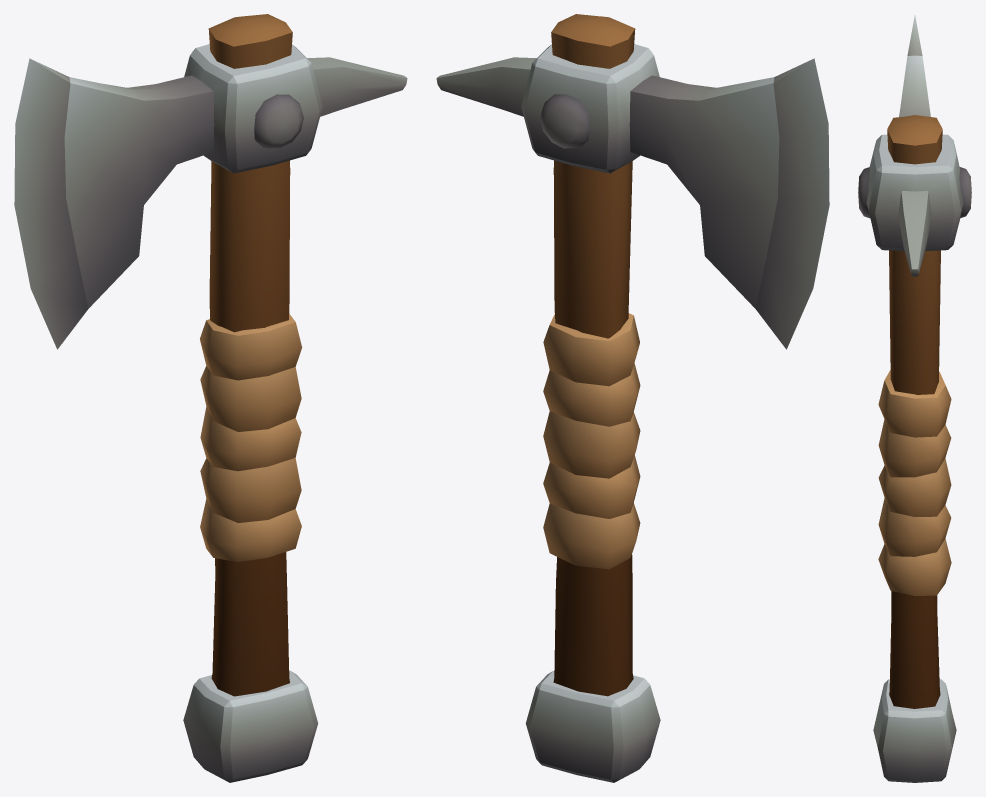
File: Axe_05.glb
3 renders of one model, left to right at view 1: azimuth 30°, elevation 25°; view 2: azimuth 150°, elevation 25°; view 3: azimuth 270°, elevation 25°, orthographic. The views are drawn at different scales.
Parts seen in each view (by area): view 1: Axe_05; view 2: Axe_05; view 3: Axe_05.
Boxes of the visible parts, x1,y1,x2,y2 form: Axe_05: (14,14,407,782); Axe_05: (436,14,829,782); Axe_05: (858,15,971,782).
Size of the model in its own units: 0.5968 by 1.1 by 0.1729.
1 material, 1 textured.
